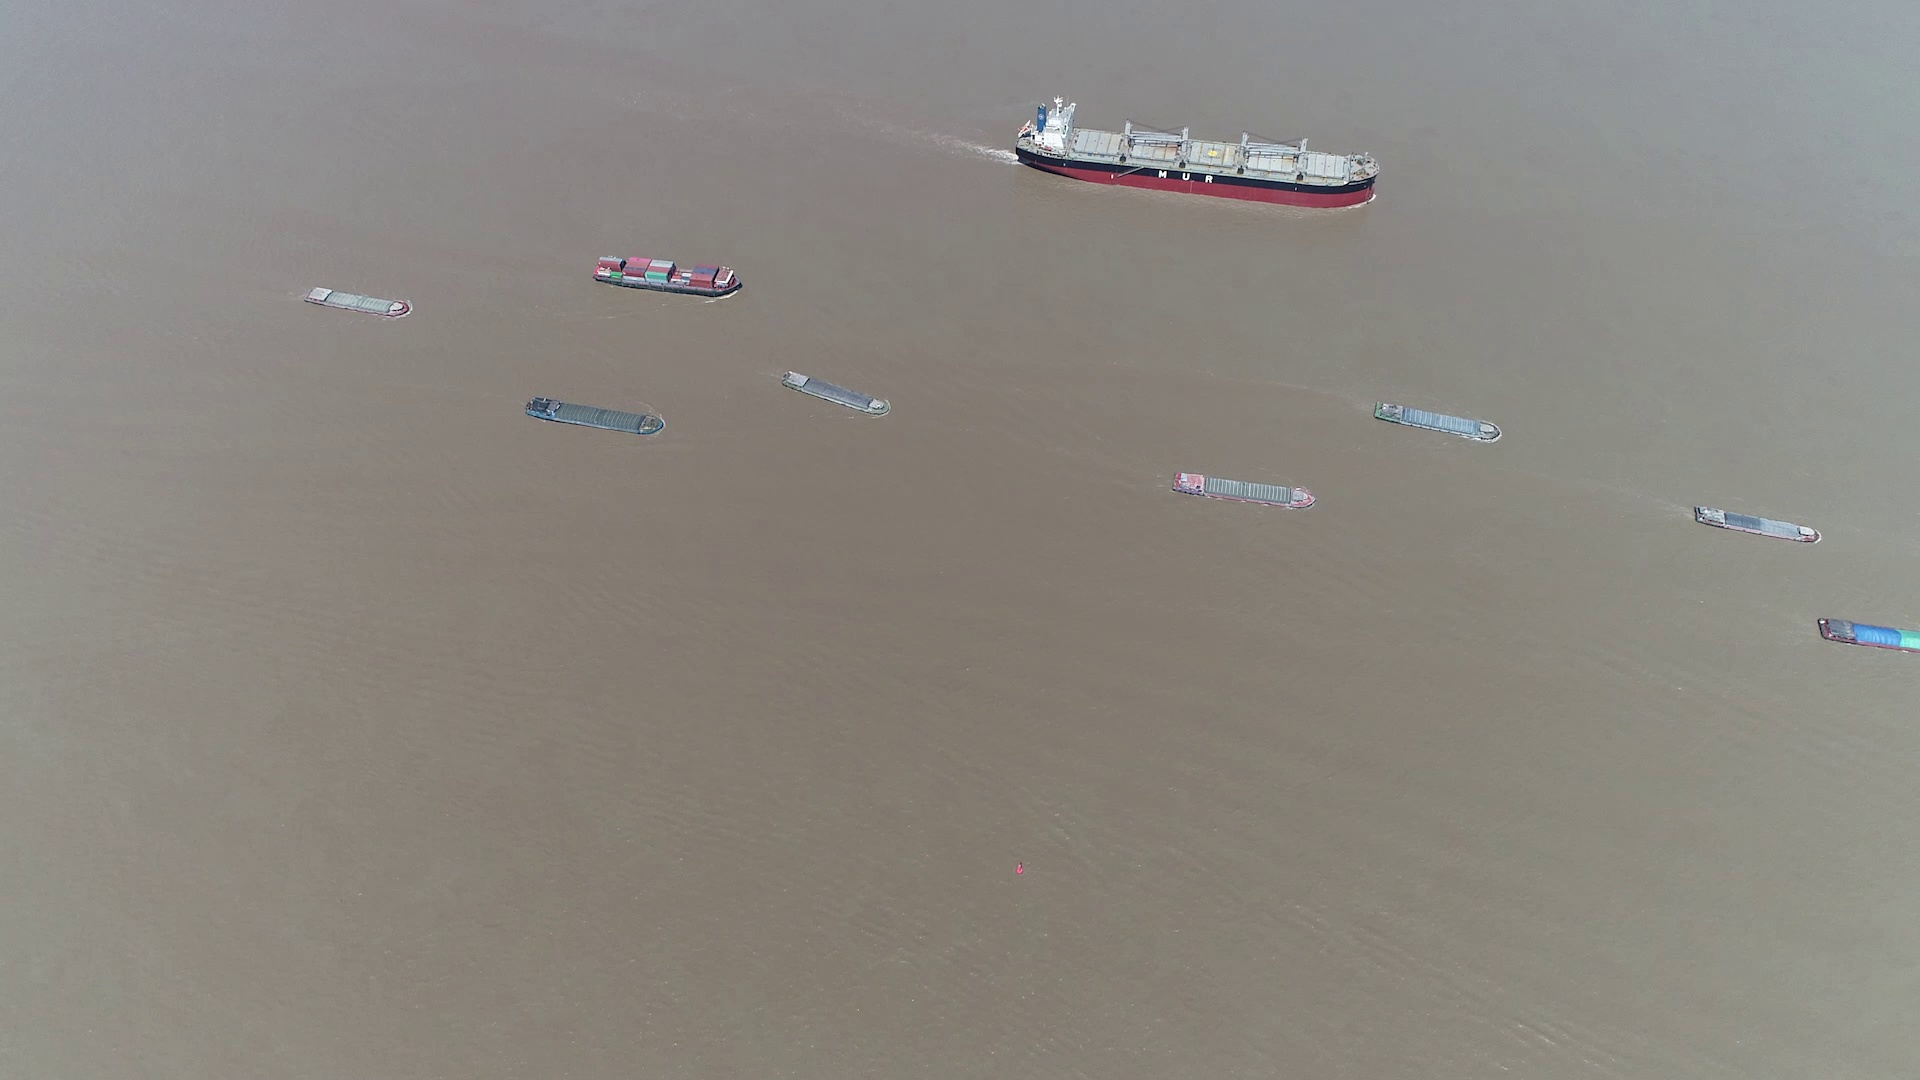ship: (1013, 98, 1375, 206), (592, 255, 741, 297), (1171, 471, 1316, 510), (524, 397, 669, 436), (1375, 401, 1502, 443), (781, 372, 894, 418), (1692, 502, 1820, 543), (1816, 616, 1920, 654), (305, 285, 411, 318)
